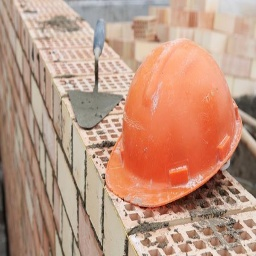helmet: (107, 33, 244, 206)
